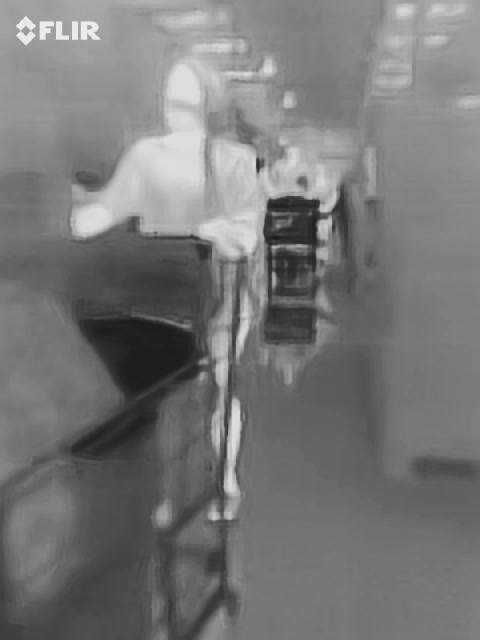head: (161, 57, 225, 134)
